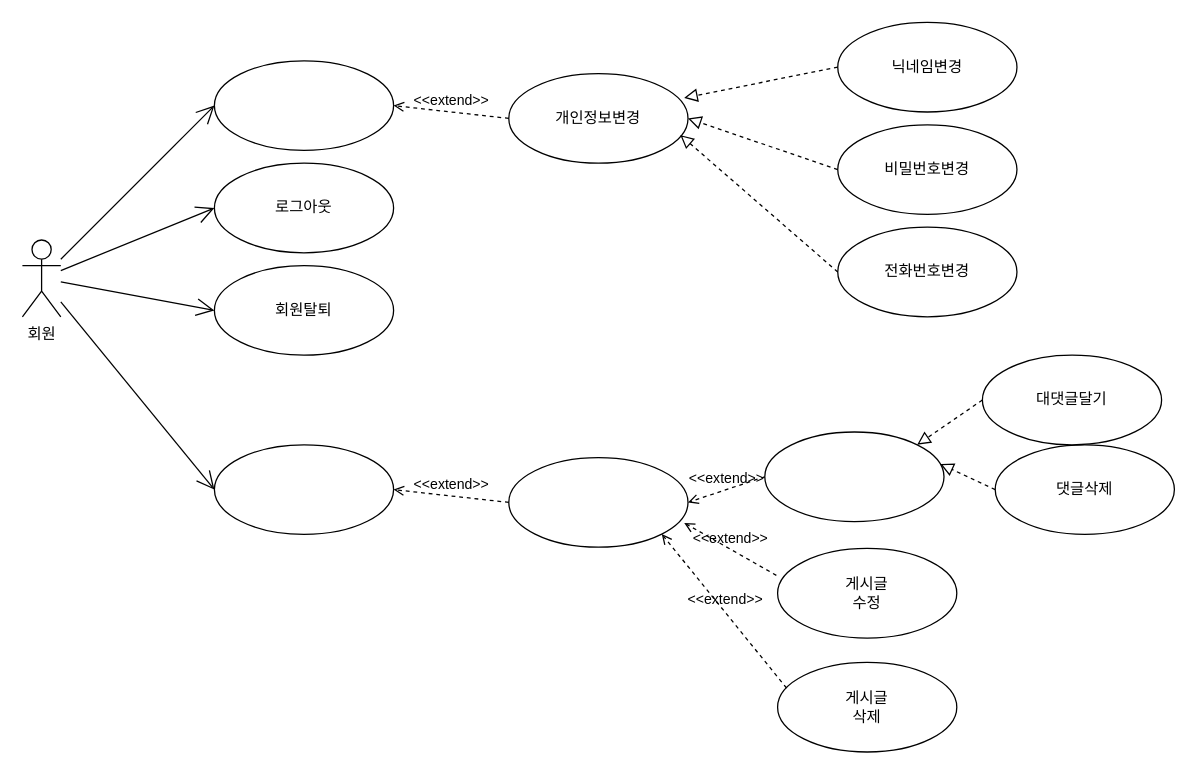
Image size: 1197x774. Some labels were removed from this diagram. The centre of each missing label's shape, as x and y in pixels:
"게시글 상세보기" belongs at [598,501].
"내게시글 목록보기" belongs at [303,489].
"내정보 보기" belongs at [303,105].
"댓글관리" belongs at [854,476].
